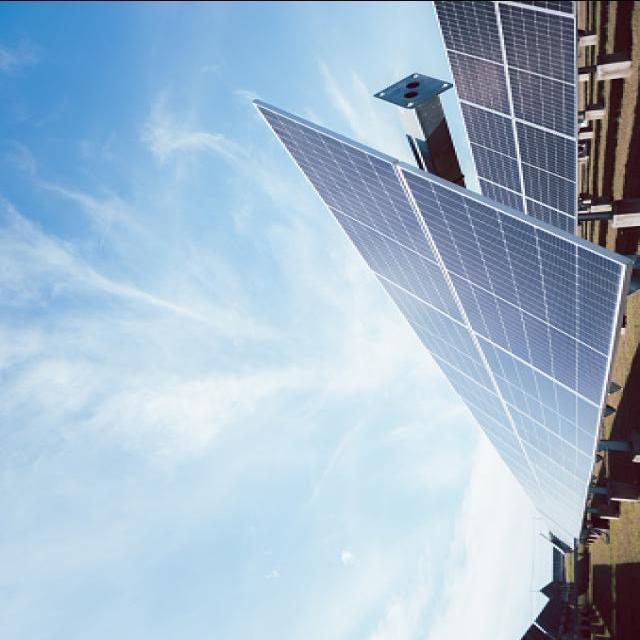Photovoltaic-Panel: (256, 100, 634, 541)
